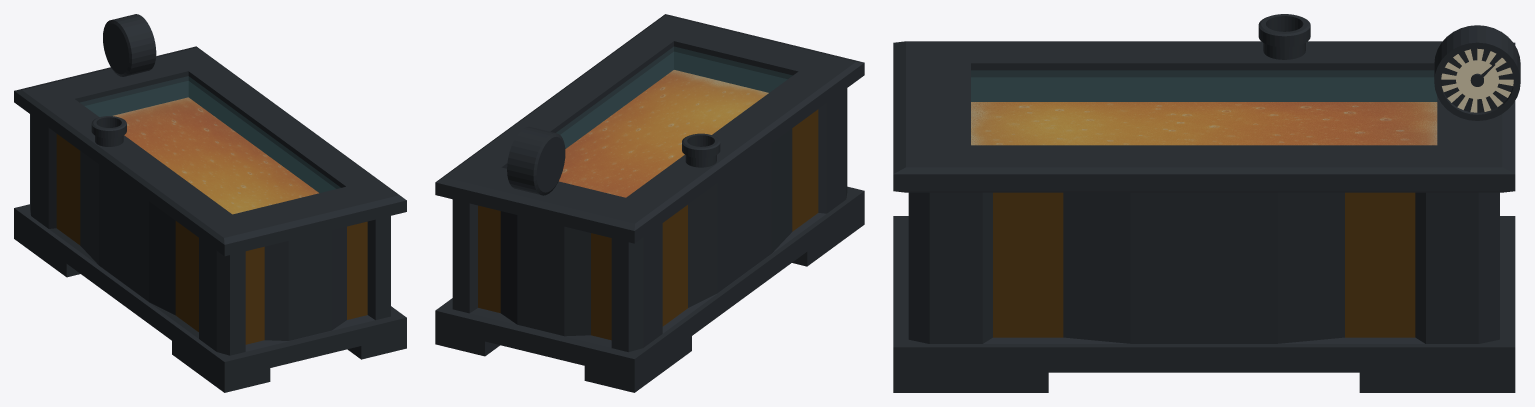
The model's file is ConditioningMachine.fbx.
3 renders of one model, left to right at view 1: azimuth 30°, elevation 25°; view 2: azimuth 150°, elevation 25°; view 3: azimuth 270°, elevation 25°, orthographic. The views are drawn at different scales.
Visible parts, largest first — view 1: Cube, Cube.002, Cube.001, Cube.003, Cylinder.001, Cylinder.006, Cylinder; view 2: Cube, Cube.002, Cube.001, Cube.003, Cylinder.001, Cylinder.006, Cylinder; view 3: Cube, Cube.002, Cube.003, Cube.001, Cylinder.001, Cylinder.003, Cylinder, Cylinder.002.
Boxes of the visible parts, left/top/right/bottom form: Cube: left=14, top=46, right=406, bottom=392; Cube.002: left=81, top=76, right=339, bottom=213; Cube.001: left=113, top=97, right=318, bottom=214; Cube.003: left=56, top=134, right=367, bottom=344; Cylinder.001: left=103, top=14, right=156, bottom=76; Cylinder.006: left=103, top=23, right=129, bottom=74; Cylinder: left=91, top=116, right=126, bottom=146; Cube: left=435, top=14, right=864, bottom=392; Cube.002: left=557, top=47, right=791, bottom=197; Cube.001: left=559, top=70, right=768, bottom=197; Cube.003: left=478, top=109, right=818, bottom=340; Cylinder.001: left=507, top=126, right=565, bottom=195; Cylinder.006: left=536, top=137, right=565, bottom=192; Cylinder: left=682, top=133, right=720, bottom=167; Cube: left=893, top=41, right=1515, bottom=392; Cube.002: left=971, top=71, right=1436, bottom=144; Cube.003: left=993, top=192, right=1415, bottom=337; Cube.001: left=971, top=102, right=1437, bottom=145; Cylinder.001: left=1434, top=25, right=1520, bottom=120; Cylinder.003: left=1441, top=48, right=1513, bottom=112; Cylinder: left=1258, top=14, right=1310, bottom=59; Cylinder.002: left=1441, top=49, right=1513, bottom=112.
Size of the model in its own units: 200 by 214 by 404.
Materials: 5 (1 with a texture image).
